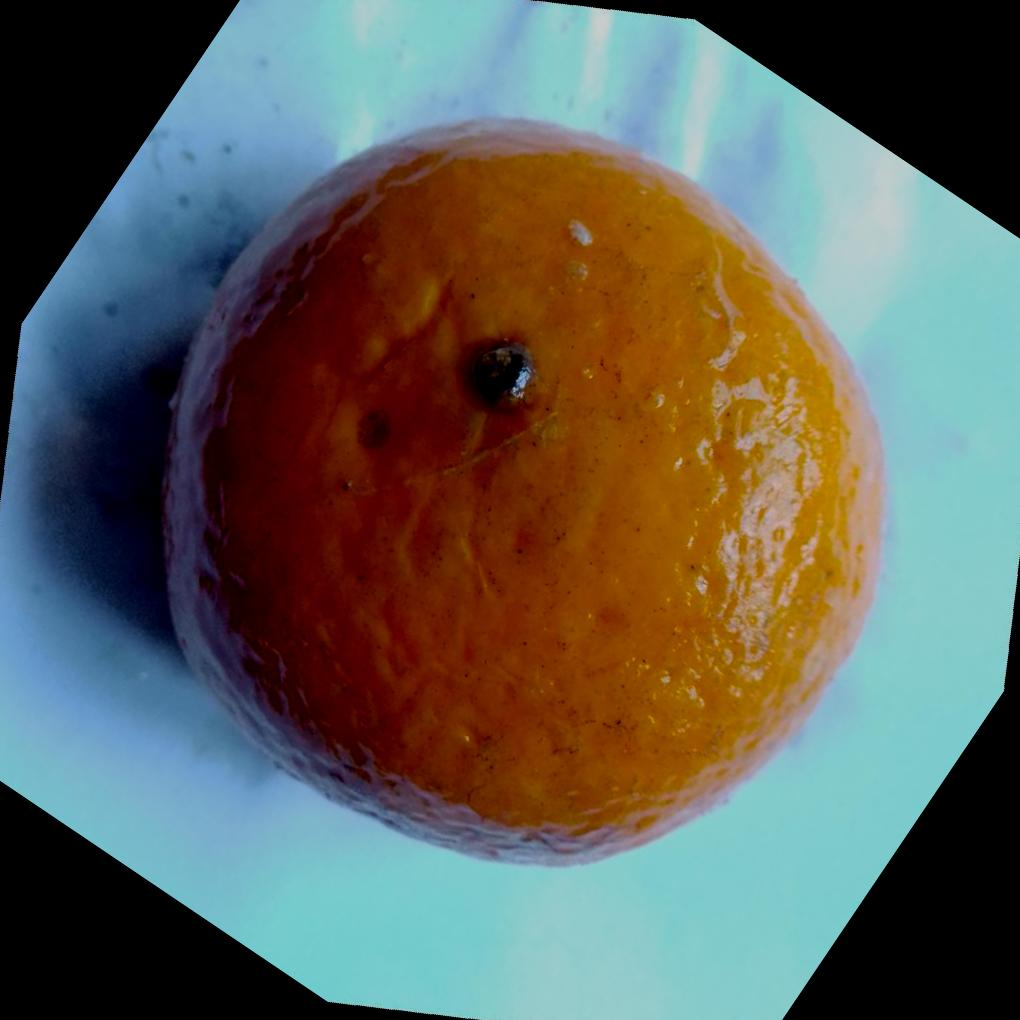FreshOrange: (153, 117, 888, 871)
